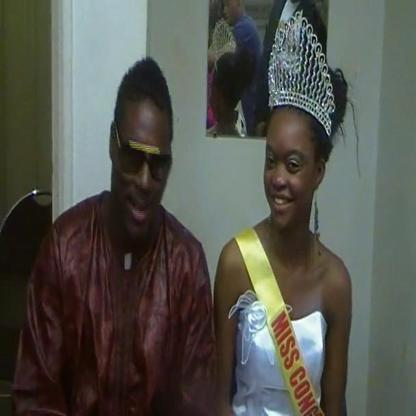face: (114, 103, 174, 237), (265, 108, 317, 223)
